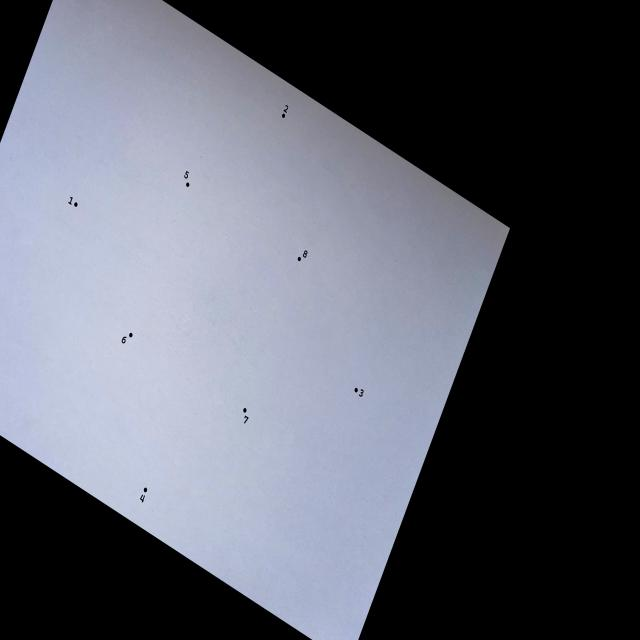Dot: (354, 387, 358, 393), (129, 332, 133, 338), (186, 182, 190, 187), (74, 202, 78, 207), (144, 487, 148, 492), (243, 408, 247, 412), (298, 256, 301, 261), (282, 114, 285, 118)
DotNumber: (121, 332, 133, 344), (139, 487, 148, 503), (297, 250, 308, 262), (183, 170, 190, 188), (242, 408, 249, 424), (68, 196, 78, 207), (354, 387, 364, 397), (282, 105, 288, 118)
Number: (358, 388, 364, 398), (140, 494, 146, 504), (243, 415, 249, 424), (184, 170, 189, 180), (302, 250, 308, 258), (121, 336, 127, 344), (68, 197, 73, 205), (284, 105, 288, 113)
